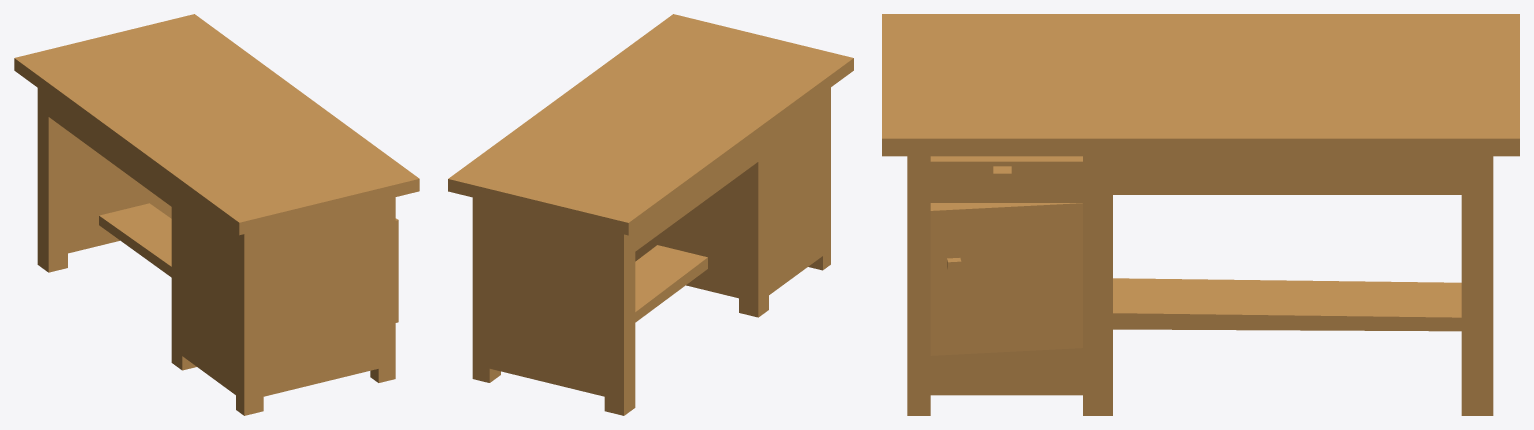
File: meja_guru.fbx
3 renders of one model, left to right at view 1: azimuth 30°, elevation 25°; view 2: azimuth 150°, elevation 25°; view 3: azimuth 270°, elevation 25°, orthographic. The views are drawn at different scales.
Parts seen in each view (by area): view 1: Cube.002; view 2: Cube.002; view 3: Cube.002.
Part boxes in pixels (bbox=[...]): Cube.002: bbox=[14, 14, 419, 415]; Cube.002: bbox=[448, 14, 853, 415]; Cube.002: bbox=[882, 14, 1519, 415].
Bounding box in the file's own units: 204 × 215 × 432.
